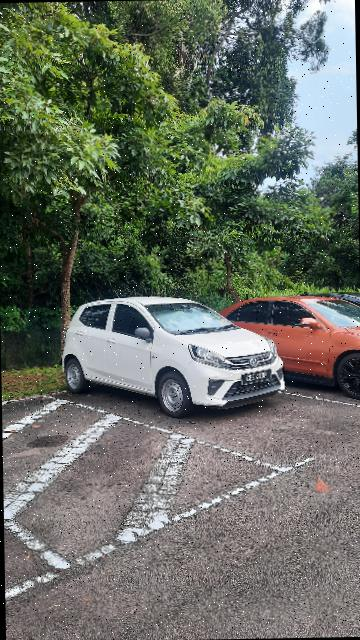License_Plate: (242, 370, 274, 388)
car: (61, 293, 289, 421), (209, 293, 360, 402)
